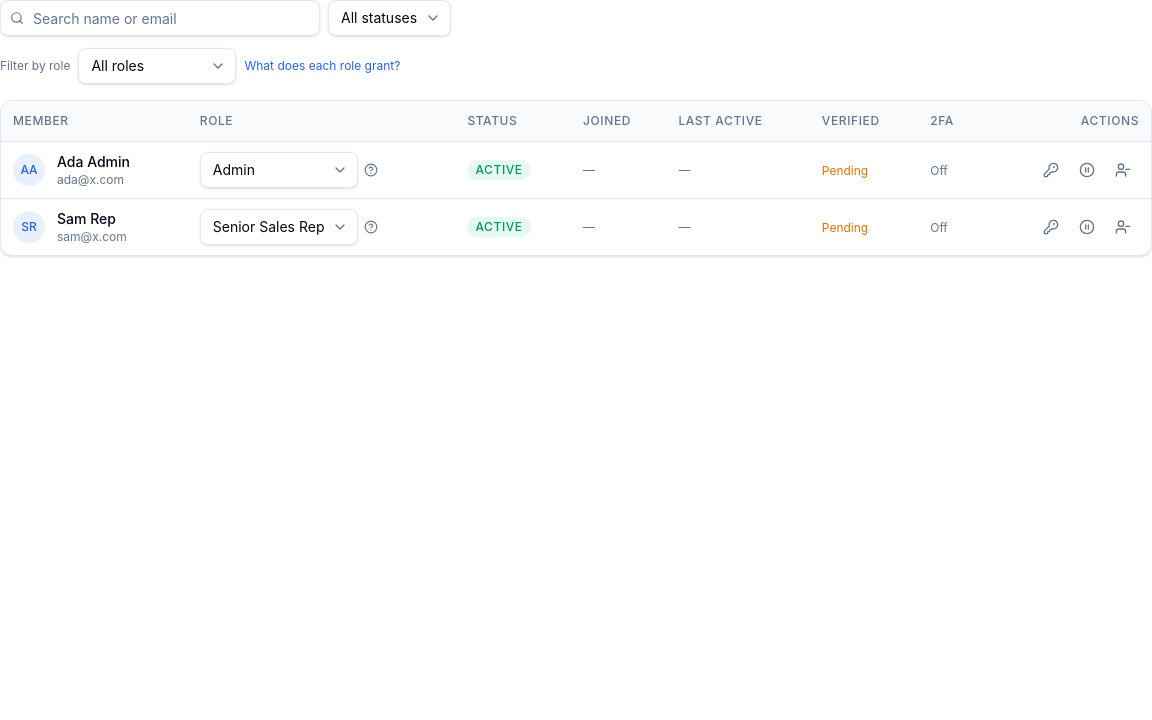
MembersList — lead-routing disclosure on removal › warns AFTER a clean removal when the member owned no records but did own lead sources
This screenshot has width=1152, height=720.
Step 1. Click the button titled "Remove Member" in the row of "sam@x.com" → (1123, 226), box [1107,210,1139,242]
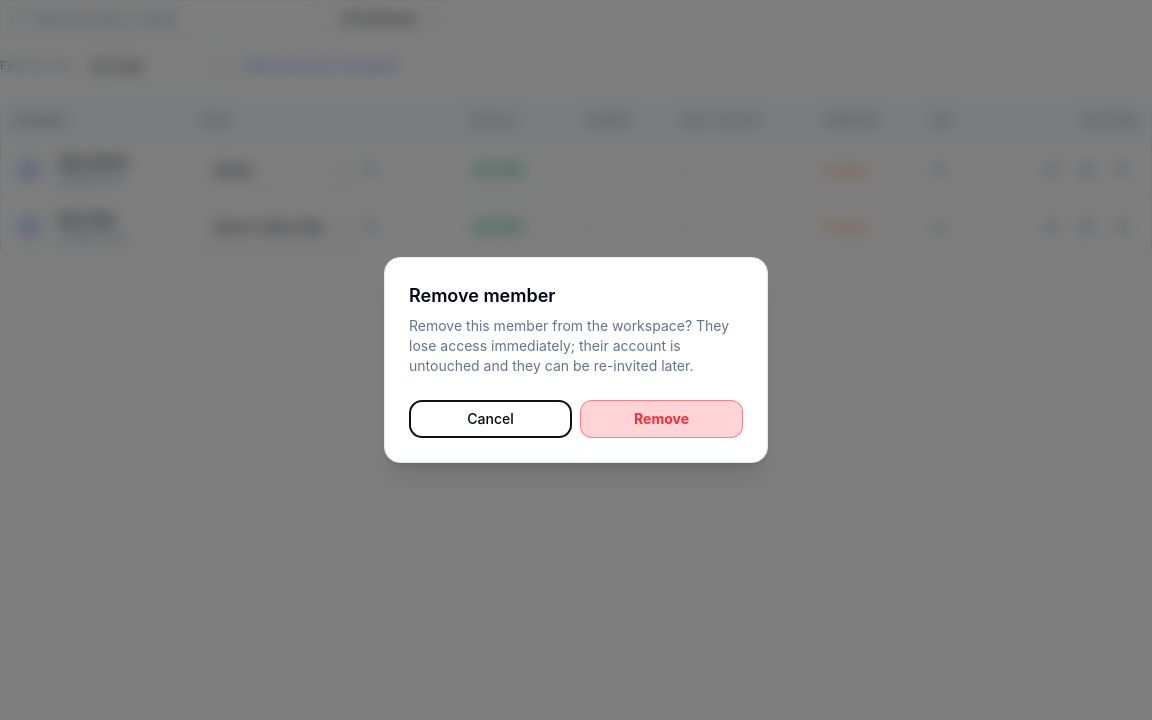
Note: The plain remove goes through the confirm dialog first.
Step 2. Click the button "Remove" → (662, 419), box [580,400,743,438]
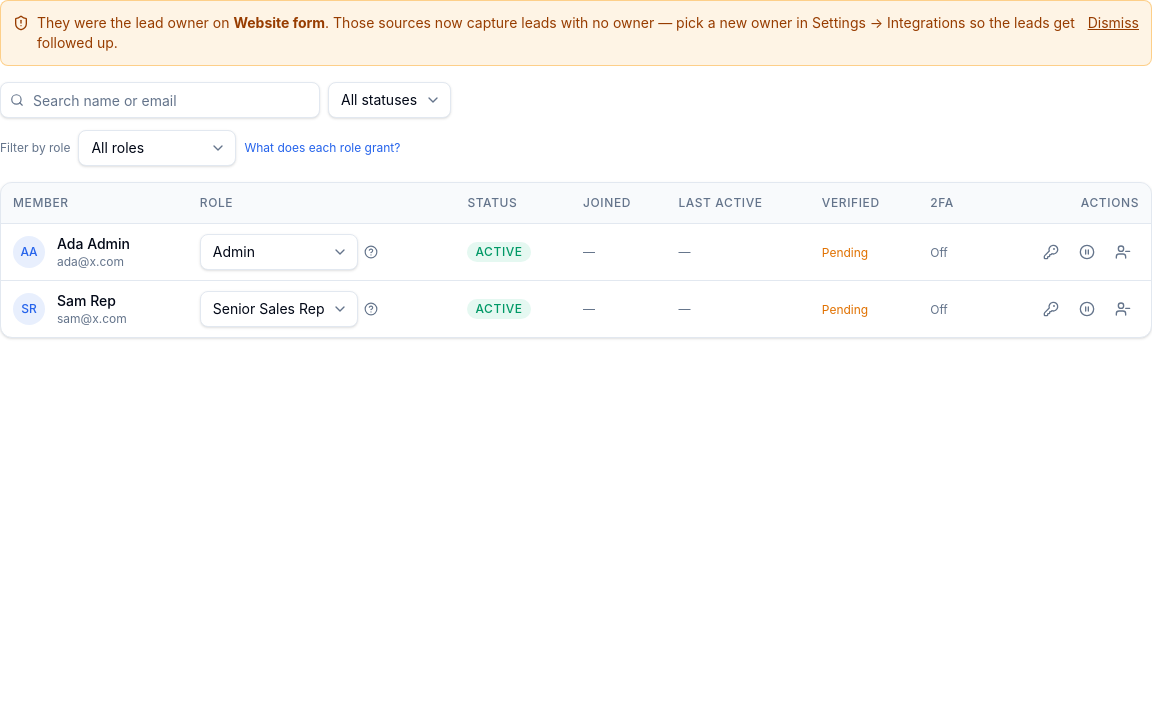
Now the text "capture leads with no owner" shows "Website form", box [233,14,325,31]
